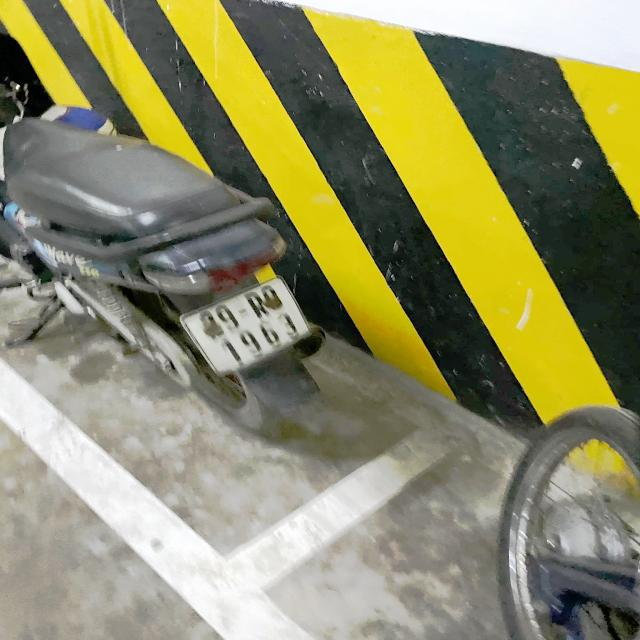license_plate: (189, 271, 326, 377)
